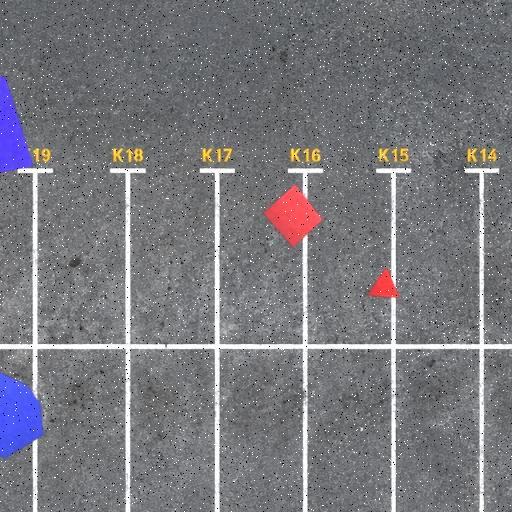RED_SQUARE: (262, 184, 324, 248)
